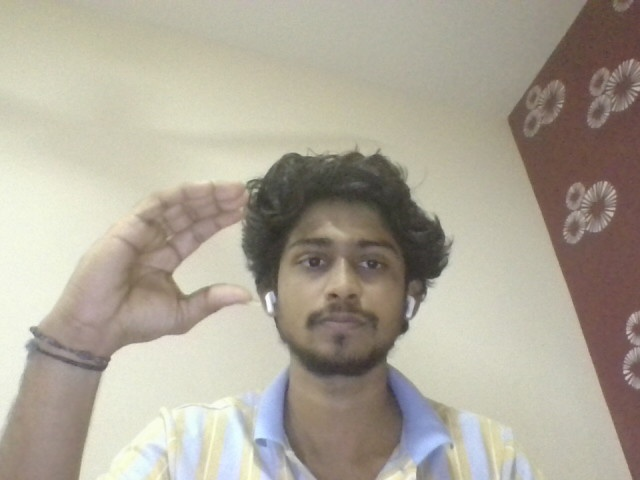No: (60, 175, 269, 348)
